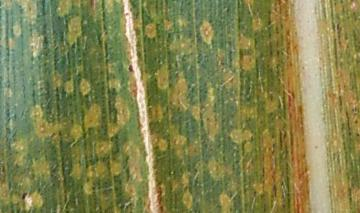tarspot: (127, 62, 135, 75), (21, 191, 28, 202), (124, 10, 131, 17), (355, 131, 360, 140), (353, 118, 359, 124), (347, 130, 352, 137)
